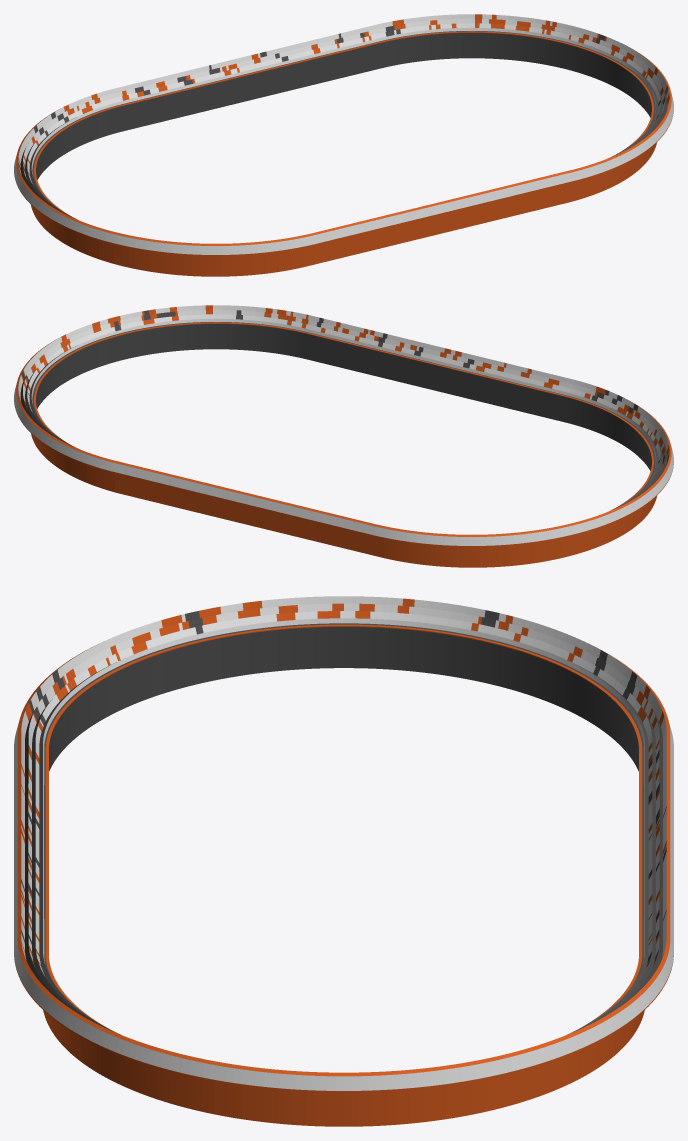
Rendered from Cup.3.TorusTop.glb.
3 renders of one model, top to bottom at view 1: azimuth 30°, elevation 25°; view 2: azimuth 150°, elevation 25°; view 3: azimuth 270°, elevation 25°, orthographic. The views are drawn at different scales.
Visible parts, largest first — view 1: Torus Top; view 2: Torus Top; view 3: Torus Top.
Boxes of the visible parts, x1,y1,x2,y2 form: Torus Top: (14, 14, 673, 276); Torus Top: (14, 305, 673, 567); Torus Top: (14, 596, 673, 1126).
Size of the model in its own units: 474 by 28.49 by 274.
